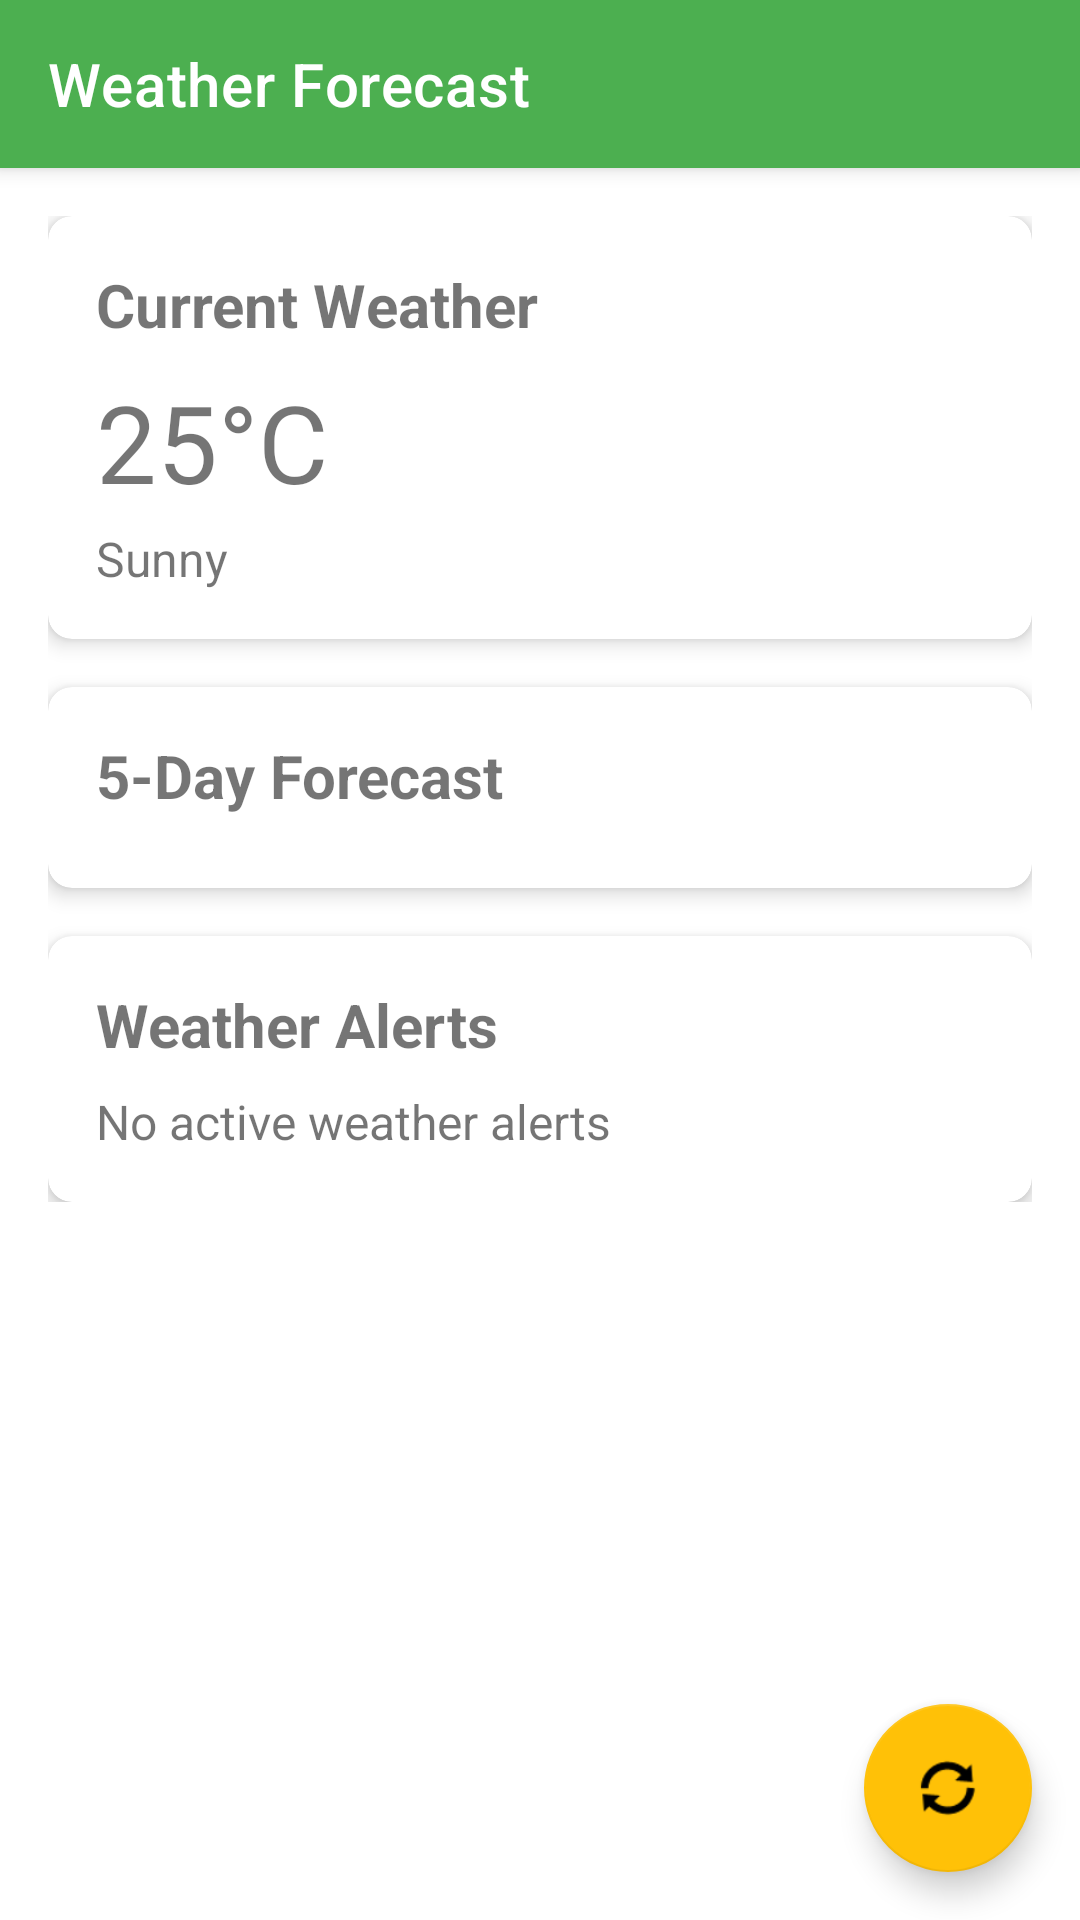

Where to tap for icons on this 1080×1920 app screen, as (x=x, y=y):
popup sync: (x=948, y=1788)
